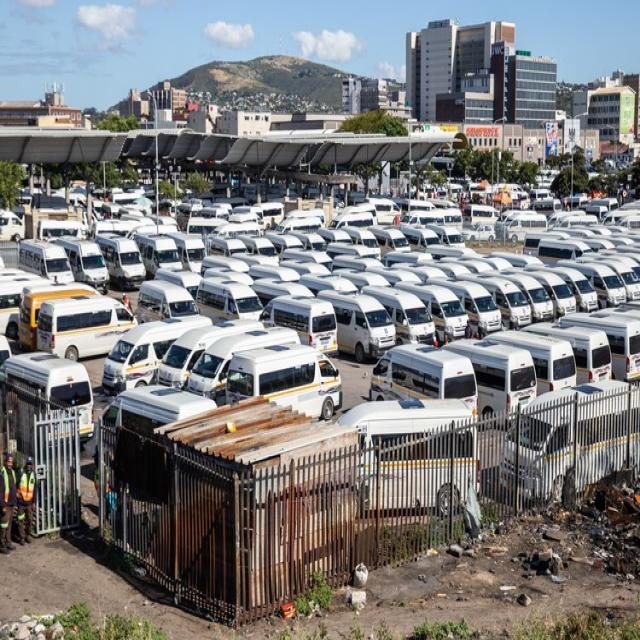MiniBus taxi: (360, 300, 398, 363), (400, 300, 437, 350), (470, 290, 504, 339), (504, 282, 532, 335), (439, 299, 469, 346), (527, 281, 552, 325)
